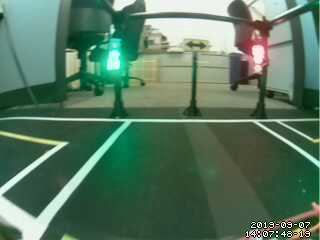Left_Right_sign: (182, 37, 211, 51)
Traffic_light_green: (108, 40, 121, 69)
Traffic_light_red: (251, 47, 266, 73)
